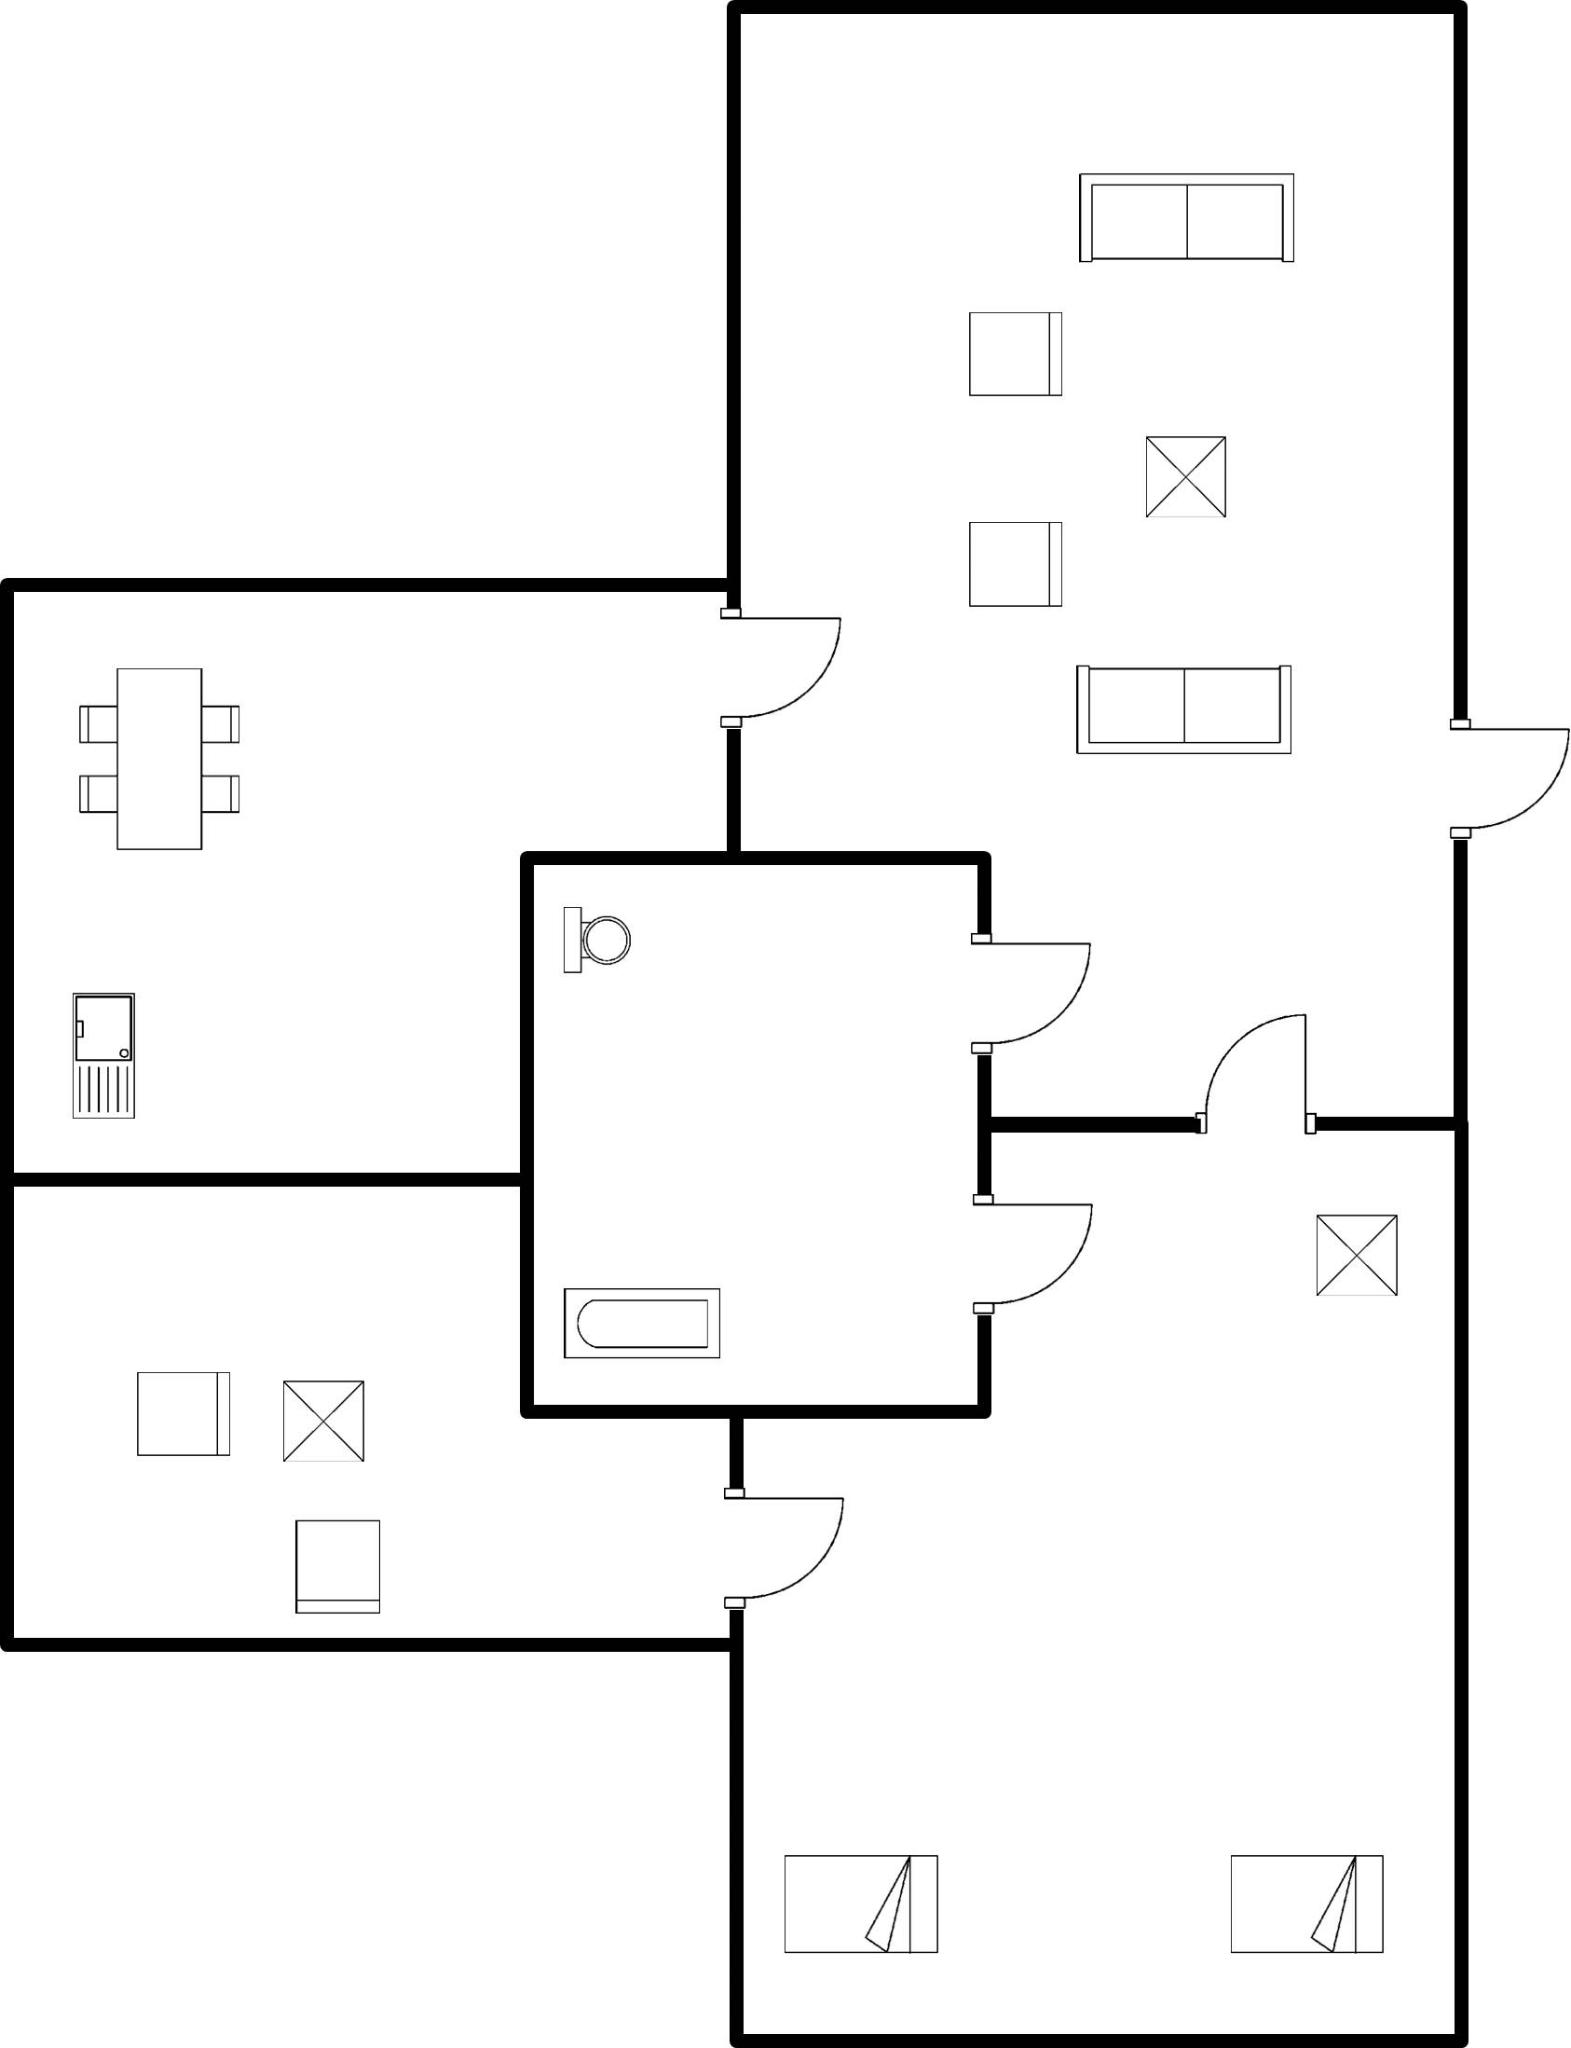bed: (772, 1840, 951, 1970), (1218, 1843, 1399, 1969)
dining_table: (64, 654, 254, 866)
sink: (63, 982, 145, 1134)
sofa: (1063, 155, 1319, 272), (1064, 655, 1300, 776)
toilet: (550, 894, 645, 990)
tub: (553, 1269, 734, 1375)
